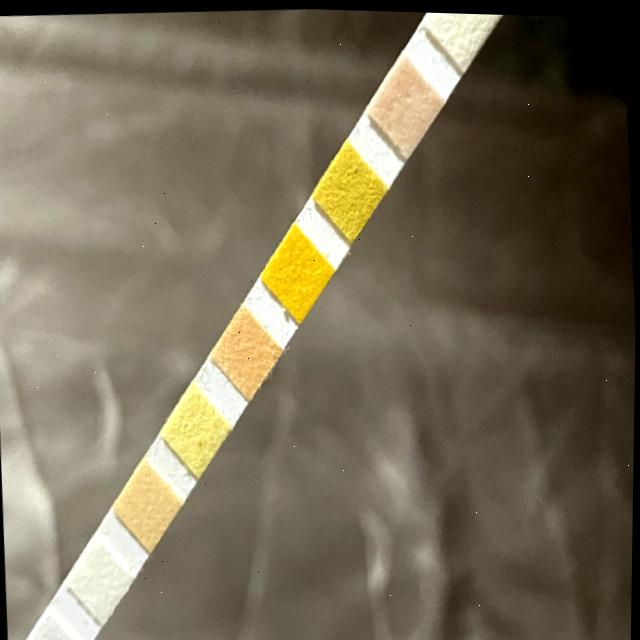Bilirubin: (442, 10, 480, 48)
Blood: (282, 238, 315, 305)
Ketone: (386, 73, 424, 136)
Leukocytes: (37, 622, 67, 640)
Nitrite: (83, 549, 115, 608)
Protein: (180, 393, 211, 463)
SpGravity: (332, 156, 366, 223)
Urobilinogen: (132, 473, 163, 535)
pH: (228, 322, 265, 383)
